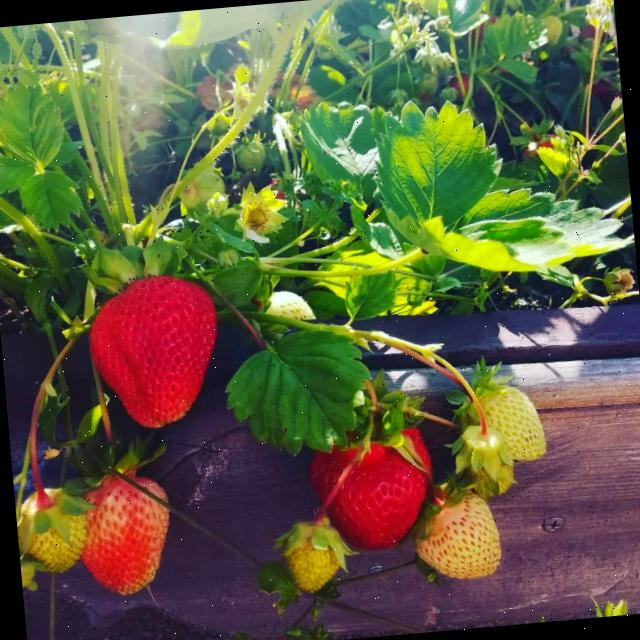Ripe Strawberry: (78, 254, 236, 442), (306, 421, 440, 562), (80, 472, 178, 614)
